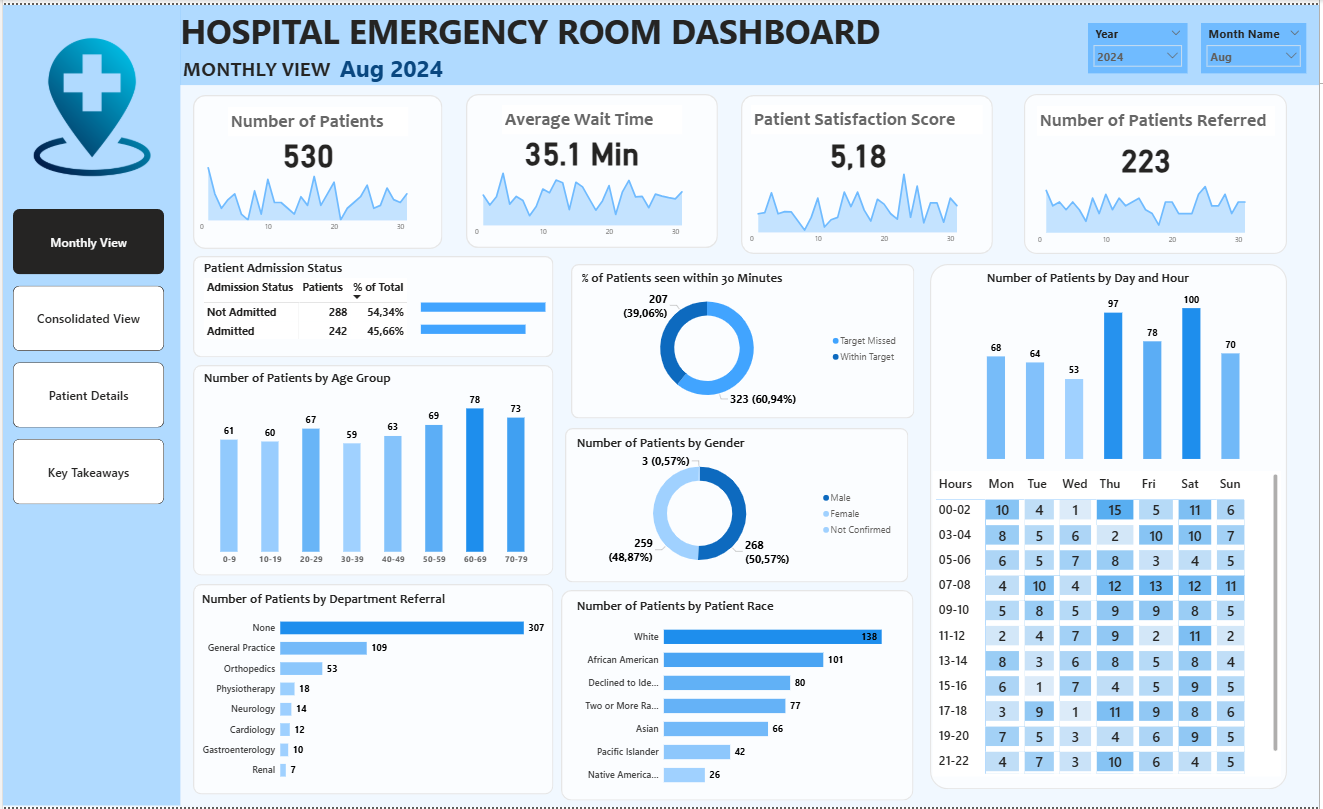

Layout of this report page (visuals, bound fields, positions):
{"tool":"powerbi","page":{"name":"Monthly View","canvas":[2300,1400],"ordinal":0},"visuals":[{"type":"shape","box":[0,0,310.4,1399.4],"z":0},{"type":"shape","box":[309.3,0,1990.7,140],"z":1000},{"type":"textbox","box":[290.1,0,1359.7,183.5],"z":2000},{"type":"textbox","box":[309.3,83.9,321.6,199.2],"z":3000},{"type":"slicer","fields":{"Values":["Date Table.Year"]},"box":[1896,32,174,88],"z":4000},{"type":"slicer","fields":{"Values":["Date Table.Month Name"]},"box":[2094,32,184,88],"z":5000},{"type":"shape","box":[331.9,157.9,436,269.1],"z":6000},{"type":"cardVisual","fields":{"Data":["Hospital ER_Data.Number of Patients"]},"box":[470.1,204.5,159,110.1],"z":7000},{"type":"textbox","box":[393.2,178.3,314.6,50.7],"z":8000},{"type":"areaChart","fields":{"Category":["Date Table.Date.Variation.Date Hierarchy.Day"],"Y":["Hospital ER_Data.Number of Patients"]},"box":[332.1,260.4,435.2,145.1],"z":9000},{"type":"cardVisual","fields":{"Data":["Min(Date Table.Month & Year)"]},"box":[571.5,43.7,305.9,125.8],"z":10000},{"type":"shape","box":[808.6,155.5,440.4,269.1],"z":11000},{"type":"cardVisual","fields":{"Data":["Hospital ER_Data.Avg Wait time"]},"box":[894,200,256,112],"z":12000},{"type":"textbox","box":[872.1,174.8,314.6,50.7],"z":13000},{"type":"areaChart","fields":{"Category":["Date Table.Date.Variation.Date Hierarchy.Day"],"Y":["Avg(Hospital ER_Data.Patient Waittime)"]},"box":[812.2,268.7,435.2,145.1],"z":14000},{"type":"shape","box":[1290.4,157.3,440.4,277.9],"z":15000},{"type":"cardVisual","fields":{"Data":["Hospital ER_Data.Satisfaction Score"]},"box":[1426.3,204.5,193.8,109.4],"z":16000},{"type":"textbox","box":[1307.3,174.8,405.5,50.7],"z":17000},{"type":"areaChart","fields":{"Category":["Date Table.Date.Variation.Date Hierarchy.Day"],"Y":["Hospital ER_Data.Satisfaction Score"]},"box":[1292.8,280.9,435.2,145.1],"z":18000},{"type":"shape","box":[1784.4,155.5,459.7,279.6],"z":19000},{"type":"cardVisual","fields":{"Data":["Hospital ER_Data.Number of Patient Referred"]},"box":[1935.8,213.5,157.9,109.4],"z":20000},{"type":"textbox","box":[1806.6,175.8,416.2,52],"z":21000},{"type":"areaChart","fields":{"Category":["Date Table.Date.Variation.Date Hierarchy.Day"],"Y":["Hospital ER_Data.Number of Patient Referred"]},"box":[1797.4,283.9,435.2,145.1],"z":22000},{"type":"shape","box":[331.9,439.5,630,177],"z":23000},{"type":"pivotTable","title":"Patient Admission Status","fields":{"Rows":["Hospital ER_Data.Admission Status"],"Values":["Hospital ER_Data.Number of Patients1","Hospital ER_Data.Number of Patients"]},"box":[346.3,443.1,601,166.8],"z":24000},{"type":"barChart","fields":{"Y":["Hospital ER_Data.Number of Patients"],"Category":["Hospital ER_Data.Admission Status"]},"box":[724.8,488,236.8,114.8],"z":25000},{"type":"shape","box":[331.9,629.7,629.7,368],"z":26000},{"type":"clusteredColumnChart","fields":{"Category":["Hospital ER_Data.Age Group"],"Y":["Hospital ER_Data.Number of Patients"]},"box":[346.3,636.9,601,353.4],"z":27000},{"type":"shape","box":[331.9,1011.9,629.7,367.8],"z":28000},{"type":"clusteredBarChart","fields":{"Category":["Hospital ER_Data.Department Referral"],"Y":["Hospital ER_Data.Number of Patients"]},"box":[342.7,1022.6,610,346.3],"z":29000},{"type":"shape","box":[992.1,452.4,600,269.8],"z":30000},{"type":"donutChart","title":"% of Patients seen within 30 Minutes","fields":{"Category":["Hospital ER_Data.Waittime Status"],"Y":["Hospital ER_Data.Number of Patients"]},"box":[1006.3,461.9,568.3,249.2],"z":31000},{"type":"shape","box":[983,740.2,600,269.8],"z":32000},{"type":"donutChart","title":"Number of Patients by Gender","fields":{"Category":["Hospital ER_Data.Patient Gender"],"Y":["Hospital ER_Data.Number of Patients"]},"box":[998.4,749.2,568.3,249.2],"z":33000},{"type":"shape","box":[976,1022,616,368],"z":34000},{"type":"clusteredBarChart","fields":{"Category":["Hospital ER_Data.Patient Race"],"Y":["Hospital ER_Data.Number of Patients"]},"box":[998,1034,576,346],"z":35000},{"type":"shape","box":[1620,452,624,918],"z":36000},{"type":"pivotTable","fields":{"Rows":["Hospital ER_Data.Waittime Interval"],"Columns":["Date Table.Day Name"],"Values":["Hospital ER_Data.Number of Patients"]},"box":[1626,814,608,534],"z":37000},{"type":"columnChart","title":"Number of Patients by Day and Hour","fields":{"Category":["Date Table.Day Name"],"Y":["Hospital ER_Data.Number of Patients"]},"box":[1714,462,454,338],"z":38000},{"type":"image","box":[30,52,252,252],"z":39000},{"type":"pageNavigator","box":[18,356,264,518],"z":39001}]}

Visuals, with their boxes in screenshot pixels (x1, y1, x2, y2), scaled from the page's 2300x1400 canvas onto the 1323x809 screenshot:
shape: bbox(0, 0, 179, 808)
shape: bbox(178, 0, 1322, 81)
textbox: bbox(167, 0, 949, 106)
textbox: bbox(178, 48, 363, 164)
slicer - Date Table.Year: bbox(1091, 18, 1191, 69)
slicer - Date Table.Month Name: bbox(1205, 18, 1310, 69)
shape: bbox(191, 91, 442, 247)
cardVisual - Hospital ER_Data.Number of Patients: bbox(270, 118, 362, 182)
textbox: bbox(226, 103, 407, 132)
areaChart - Date Table.Date.Variation.Date Hierarchy.Day x Hospital ER_Data.Number of Patients: bbox(191, 150, 441, 234)
cardVisual - Min(Date Table.Month & Year): bbox(329, 25, 505, 98)
shape: bbox(465, 90, 718, 245)
cardVisual - Hospital ER_Data.Avg Wait time: bbox(514, 116, 662, 180)
textbox: bbox(502, 101, 683, 130)
areaChart - Date Table.Date.Variation.Date Hierarchy.Day x Avg(Hospital ER_Data.Patient Waittime): bbox(467, 155, 718, 239)
shape: bbox(742, 91, 996, 251)
cardVisual - Hospital ER_Data.Satisfaction Score: bbox(820, 118, 932, 181)
textbox: bbox(752, 101, 985, 130)
areaChart - Date Table.Date.Variation.Date Hierarchy.Day x Hospital ER_Data.Satisfaction Score: bbox(744, 162, 994, 246)
shape: bbox(1026, 90, 1291, 251)
cardVisual - Hospital ER_Data.Number of Patient Referred: bbox(1114, 123, 1204, 187)
textbox: bbox(1039, 102, 1279, 132)
areaChart - Date Table.Date.Variation.Date Hierarchy.Day x Hospital ER_Data.Number of Patient Referred: bbox(1034, 164, 1284, 248)
shape: bbox(191, 254, 553, 356)
"Patient Admission Status" pivotTable: bbox(199, 256, 545, 352)
barChart - Hospital ER_Data.Number of Patients x Hospital ER_Data.Admission Status: bbox(417, 282, 553, 348)
shape: bbox(191, 364, 553, 577)
clusteredColumnChart - Hospital ER_Data.Age Group x Hospital ER_Data.Number of Patients: bbox(199, 368, 545, 572)
shape: bbox(191, 585, 553, 797)
clusteredBarChart - Hospital ER_Data.Department Referral x Hospital ER_Data.Number of Patients: bbox(197, 591, 548, 791)
shape: bbox(571, 261, 916, 417)
"% of Patients seen within 30 Minutes" donutChart: bbox(579, 267, 906, 411)
shape: bbox(565, 428, 911, 584)
"Number of Patients by Gender" donutChart: bbox(574, 433, 901, 577)
shape: bbox(561, 591, 916, 803)
clusteredBarChart - Hospital ER_Data.Patient Race x Hospital ER_Data.Number of Patients: bbox(574, 598, 905, 797)
shape: bbox(932, 261, 1291, 792)
pivotTable - Hospital ER_Data.Waittime Interval x Date Table.Day Name: bbox(935, 470, 1285, 779)
"Number of Patients by Day and Hour" columnChart: bbox(986, 267, 1247, 462)
image: bbox(17, 30, 162, 176)
pageNavigator: bbox(10, 206, 162, 505)
